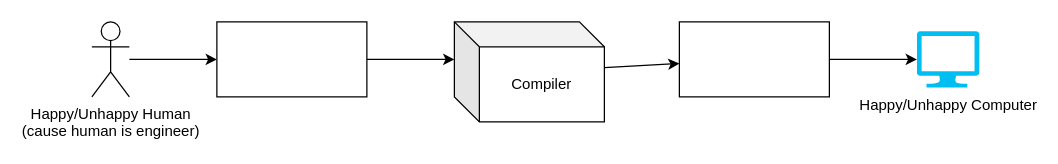
Some shapes in this 1058 by 164 pixel diagram are drawn without their labels. The shapes that lost their labels are listed below. From the top down, each one's box as (x1, y1, x2, y2) in pixels, then its label:
(216, 21, 367, 97): Instructions that a human can understand the intent of relatively easily
(678, 21, 829, 97): Instructions that a computer can understand the intent of relatively easily
